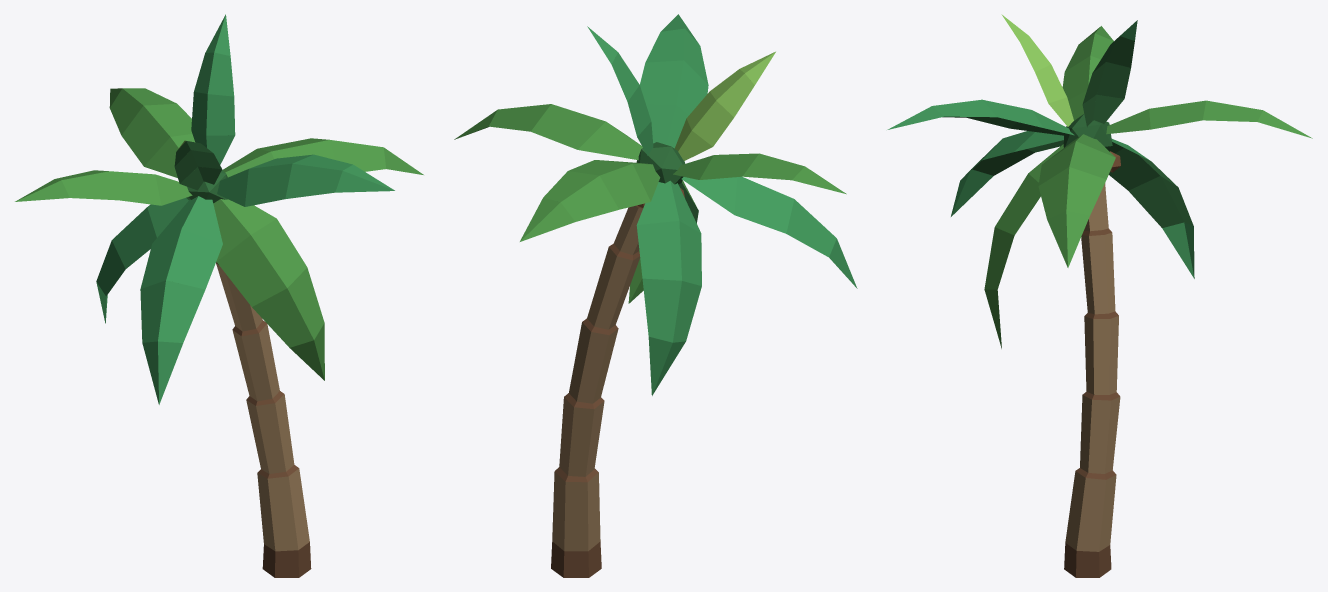
The model's file is tree_palm_b.glb.
3 views of the same model, side by side, from view 1: azimuth 30°, elevation 25°; view 2: azimuth 150°, elevation 25°; view 3: azimuth 270°, elevation 25° (orthographic). The views are drawn at different scales.
Visible parts, largest first — view 1: tree_palm_b__mesh; view 2: tree_palm_b__mesh; view 3: tree_palm_b__mesh.
Part boxes in pixels (x1,y1,x2,y2): tree_palm_b__mesh: (15,14,423,577); tree_palm_b__mesh: (454,14,857,577); tree_palm_b__mesh: (887,14,1312,577).
Size of the model in its own units: 5.15 by 6.83 by 4.96.
Materials: 2 (2 with a texture image).
